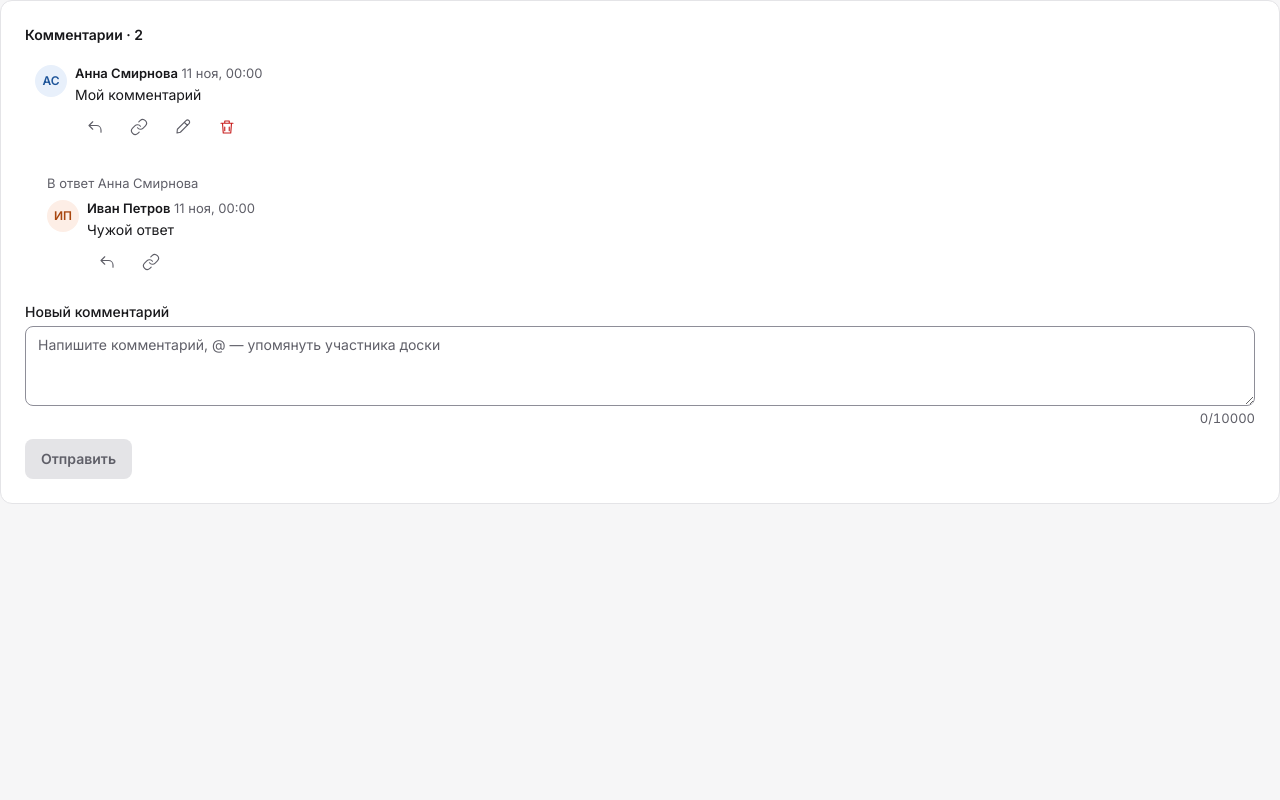
действия с комментариями › ошибка сохранения оставляет черновик и разрешает повторить
This screenshot has width=1280, height=800.
Click the button named "Редактировать комментарий": coordinates (183, 127) [163,107,203,147]
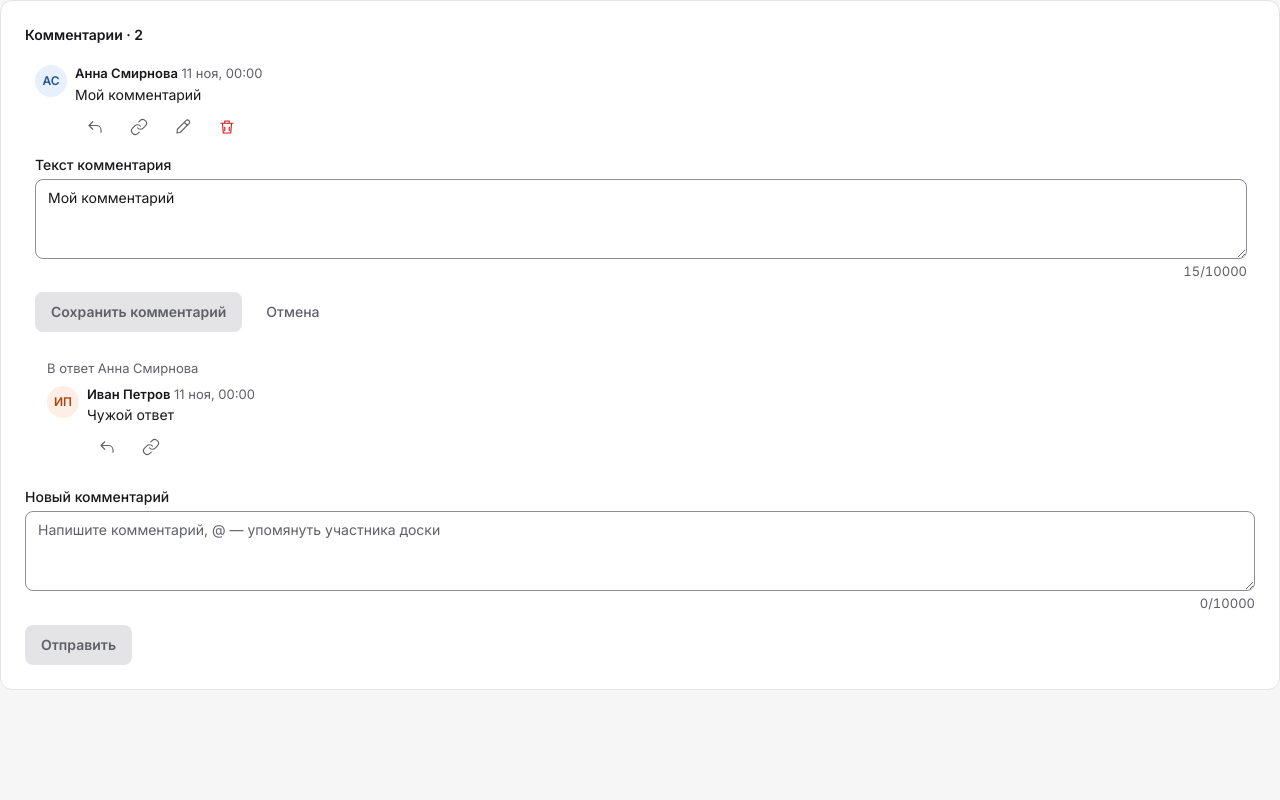
Replace the text in the text box labelled "Текст комментария" with "Черновик": coordinates (641, 219) [35,179,1247,259]
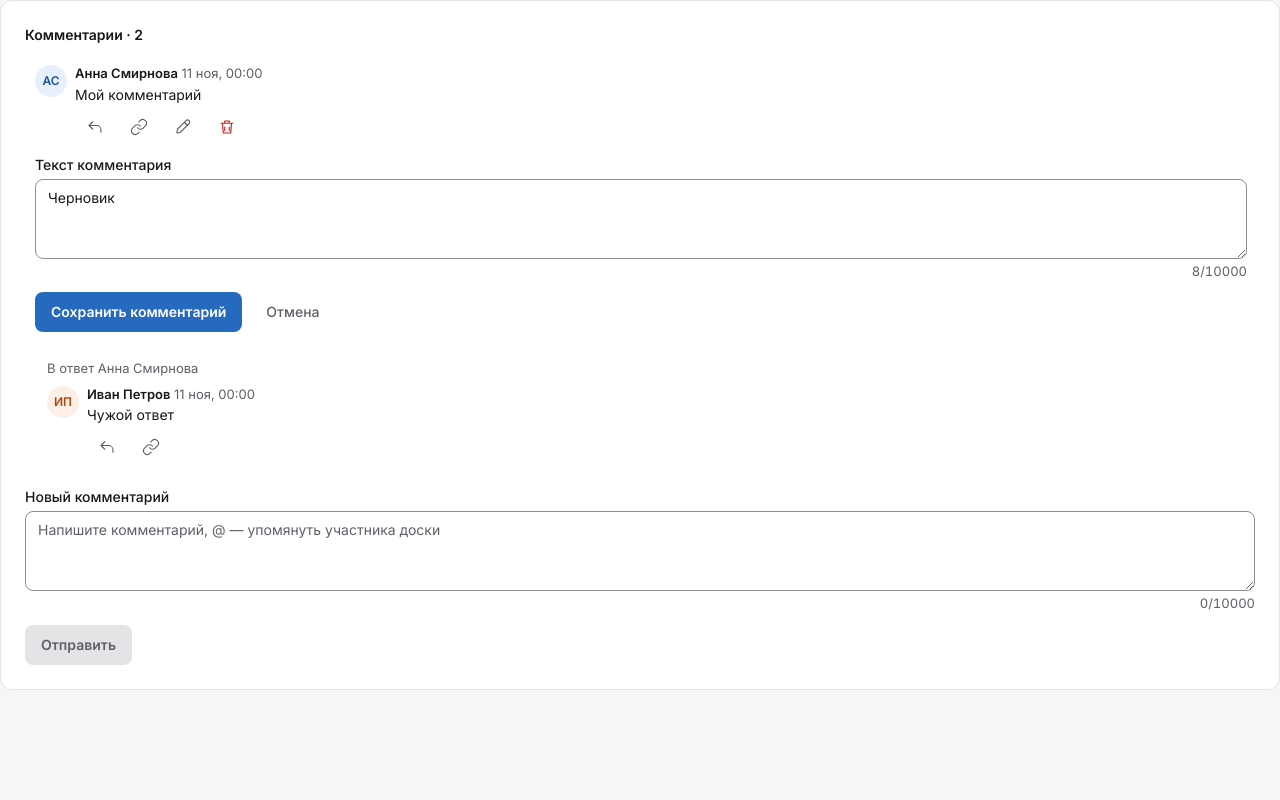
Click the button "Сохранить комментарий": coordinates (139, 312) [35,292,242,332]
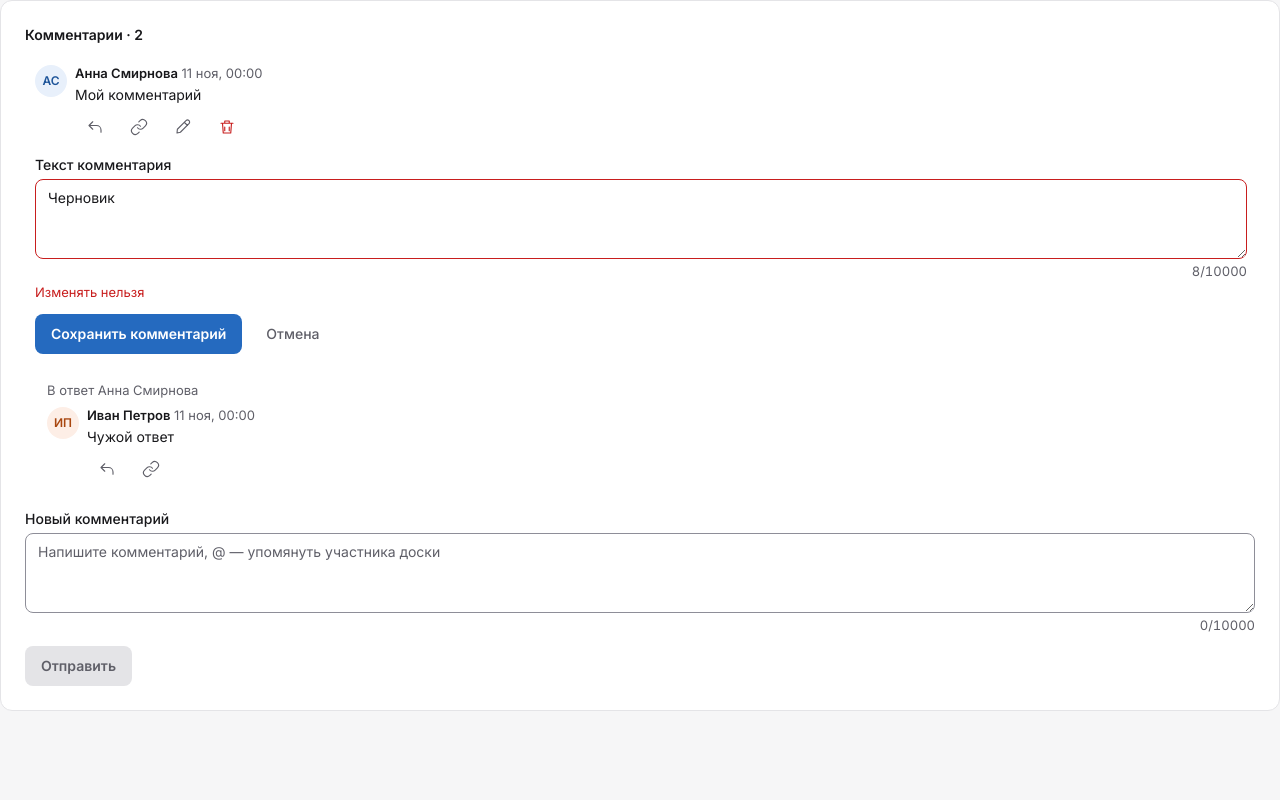
Check: the text "Мой комментарий" is shown, box [75,86,201,103]
Check: the text "Изменять нельзя" is shown, box [35,284,144,300]
Click the button "Сохранить комментарий": coordinates (139, 334) [35,314,242,354]
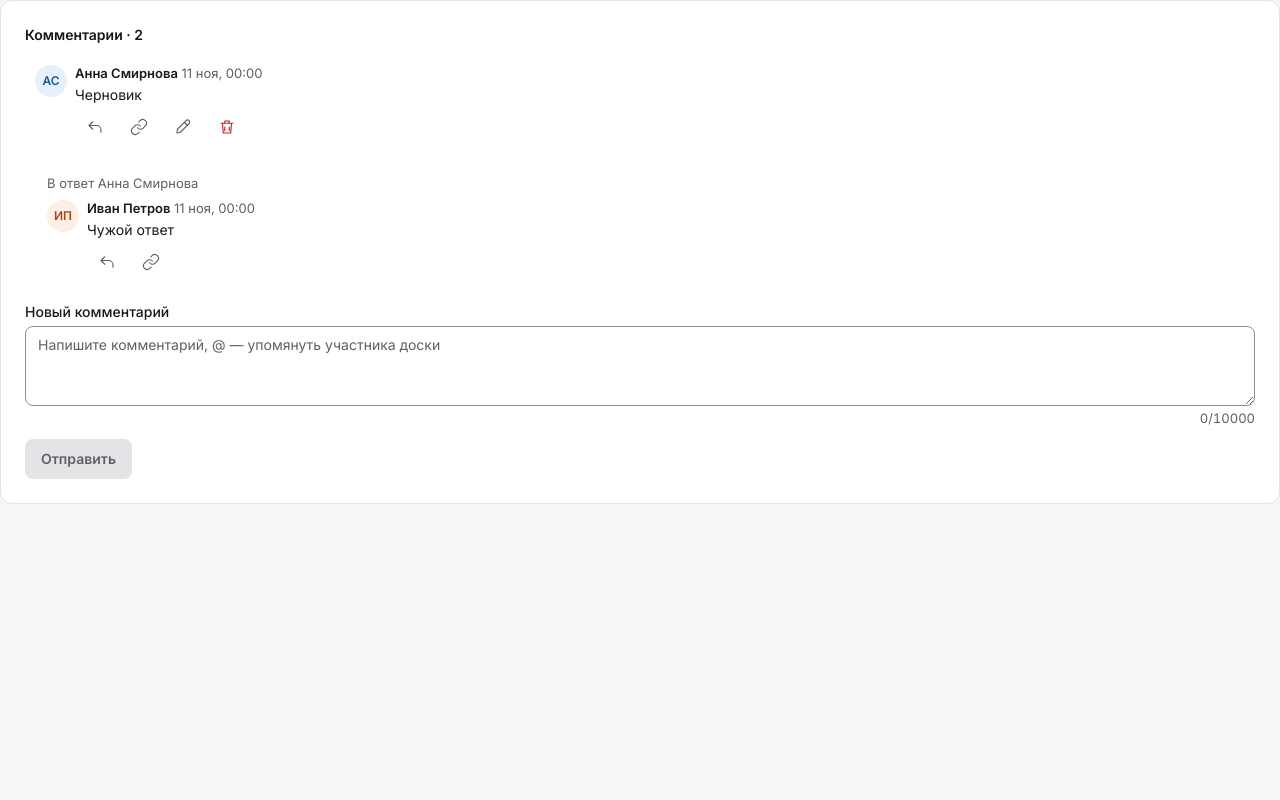
Check: the label labelled "Текст комментария" is gone
Check: the text "Черновик" is shown, box [75,86,142,103]
